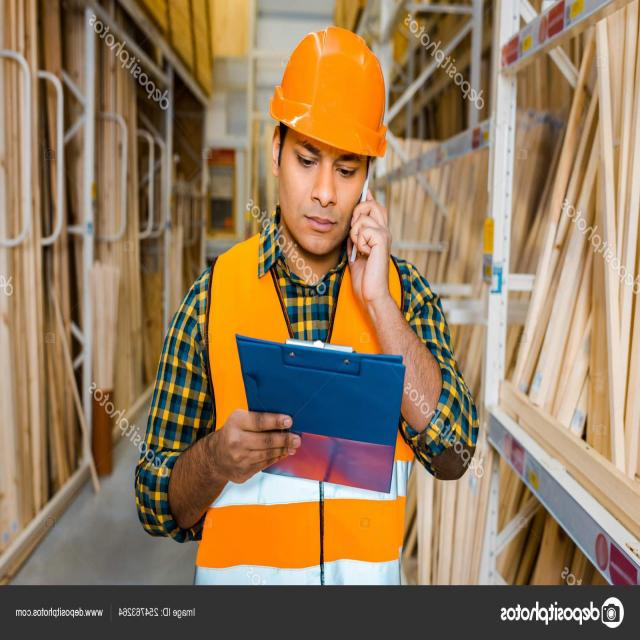Reflective-Jacket: (187, 246, 419, 576)
Safety-Helmet: (268, 24, 390, 159)
